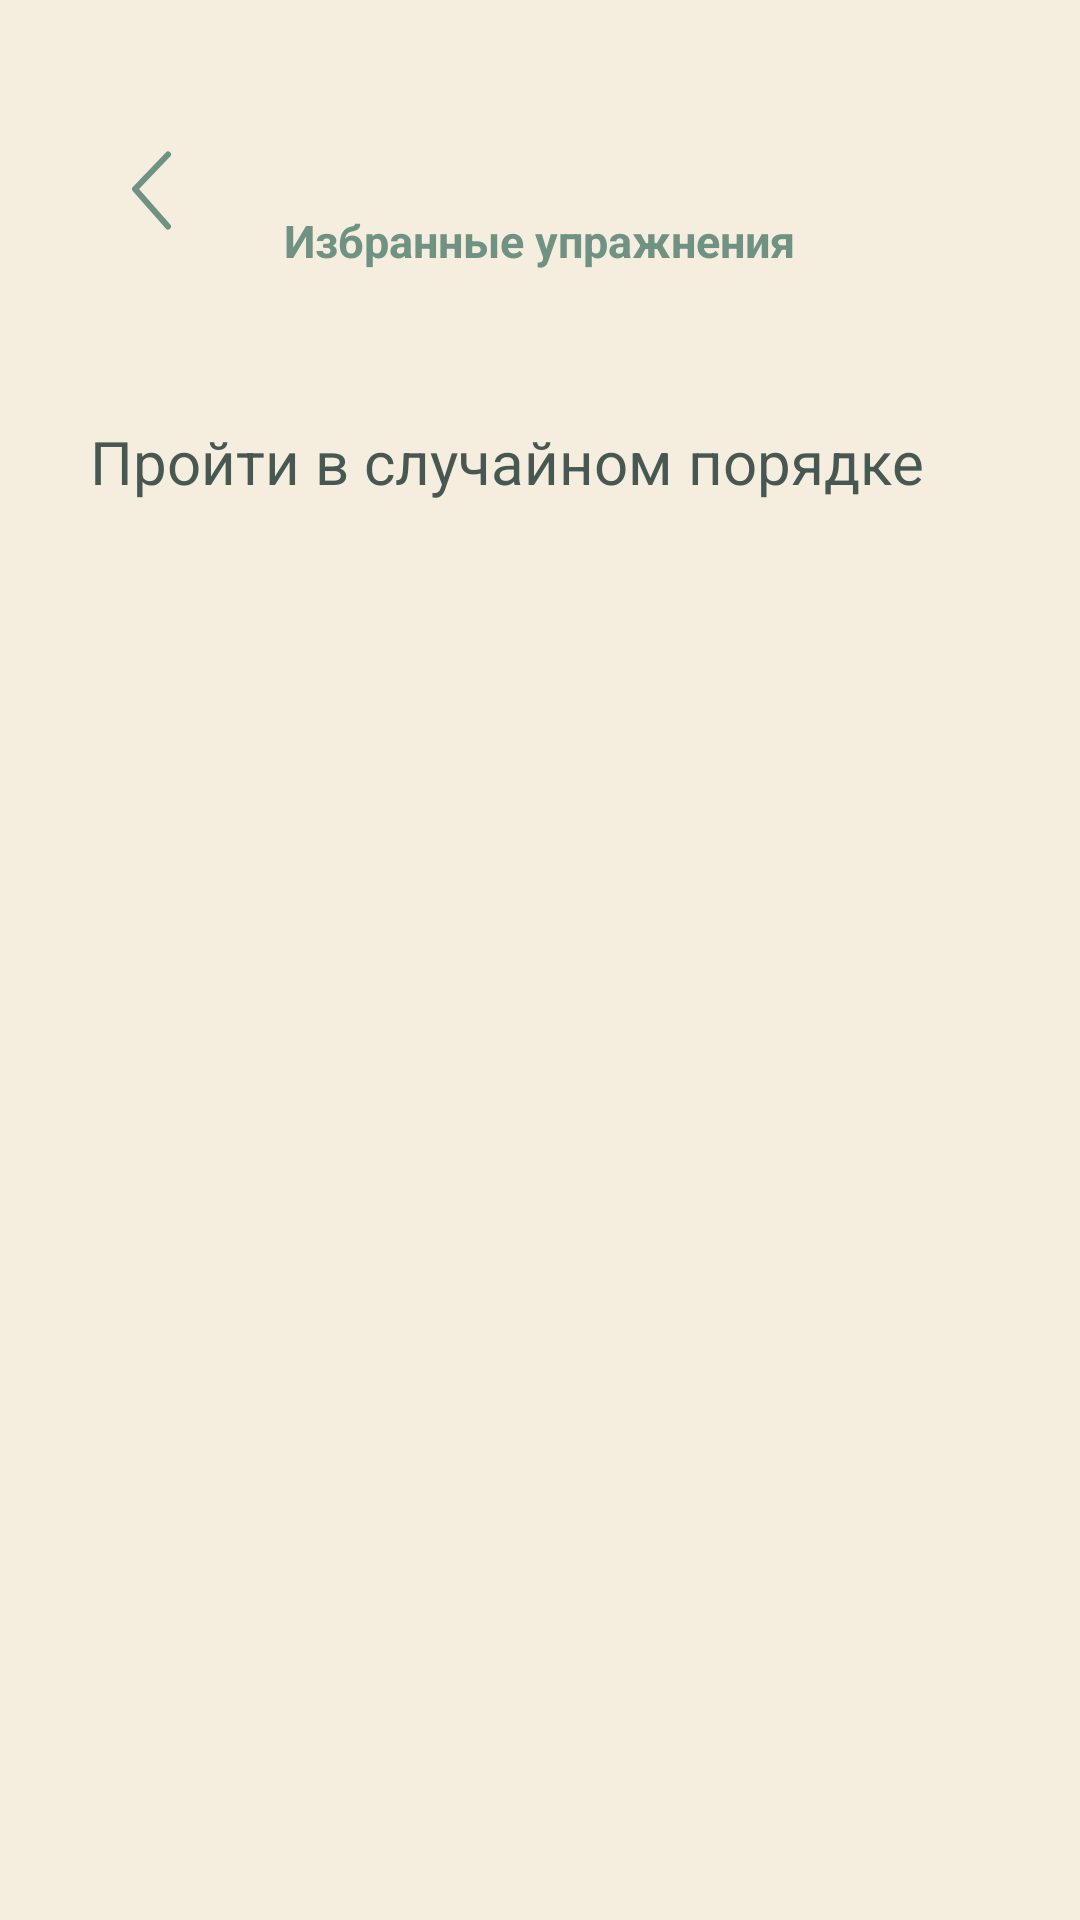

Locate icon controls on the screen. Image size 1080px x 1920px, boxes as bbox=(x1, y1, x2, y2).
Back Button: bbox=(132, 151, 171, 230)
